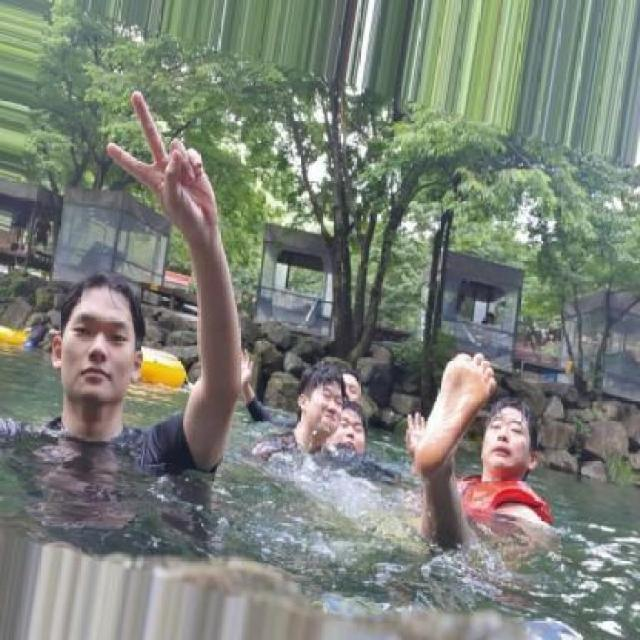drowning: (3, 1, 640, 638)
